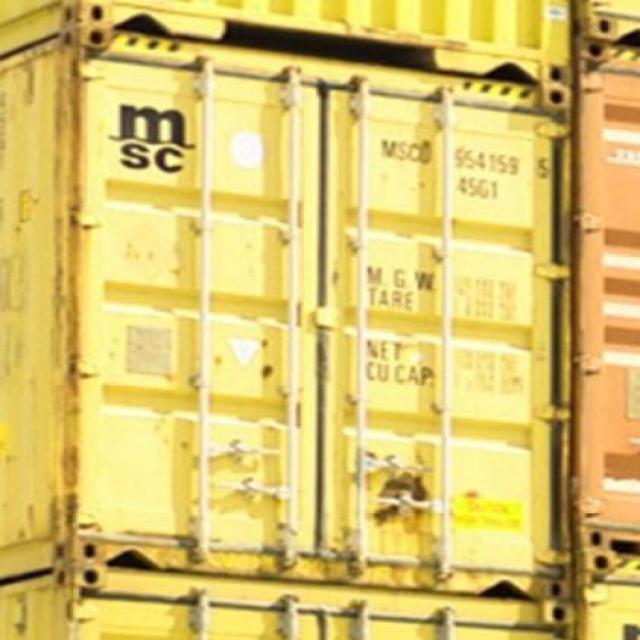ISO: (456, 172, 502, 199)
container_number: (382, 142, 551, 174)
